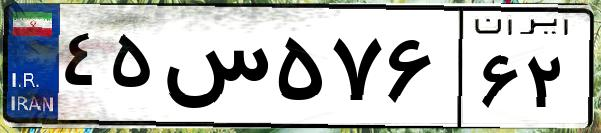2: (525, 38, 570, 115)
4: (57, 26, 110, 100)
5: (270, 28, 330, 110), (110, 28, 158, 98)
6: (385, 28, 445, 110), (475, 38, 525, 113)
7: (330, 28, 385, 110)
س: (158, 20, 270, 120)
